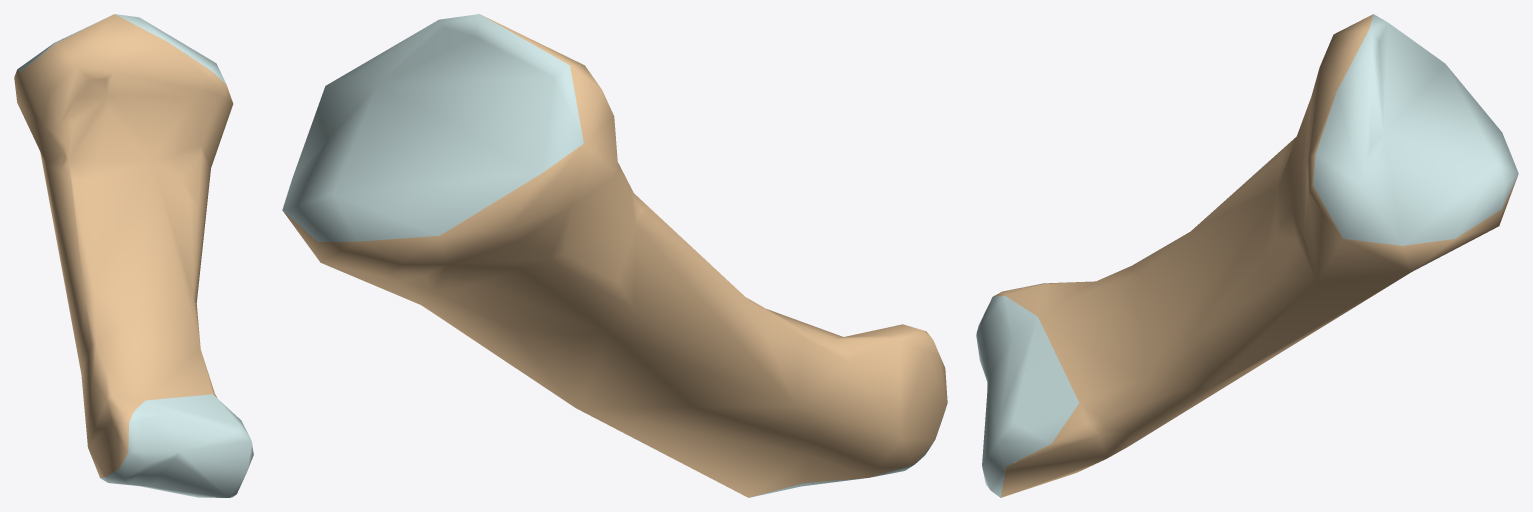
The model's file is Middle_phalanx_of_2d_finger.r_Generated_Mesh_From_X3D.718.glb.
3 renders of one model, left to right at view 1: azimuth 30°, elevation 25°; view 2: azimuth 150°, elevation 25°; view 3: azimuth 270°, elevation 25°, orthographic. The views are drawn at different scales.
Visible parts, largest first — view 1: Middle_phalanx_of_2d_finger.r_Generated_Mesh_From_X3D.718; view 2: Middle_phalanx_of_2d_finger.r_Generated_Mesh_From_X3D.718; view 3: Middle_phalanx_of_2d_finger.r_Generated_Mesh_From_X3D.718.
Boxes of the visible parts, x1,y1,x2,y2 form: Middle_phalanx_of_2d_finger.r_Generated_Mesh_From_X3D.718: (14,14,253,497); Middle_phalanx_of_2d_finger.r_Generated_Mesh_From_X3D.718: (282,14,947,497); Middle_phalanx_of_2d_finger.r_Generated_Mesh_From_X3D.718: (976,14,1518,497).
Size of the model in its own units: 0.0151 by 0.0213 by 0.0216.
